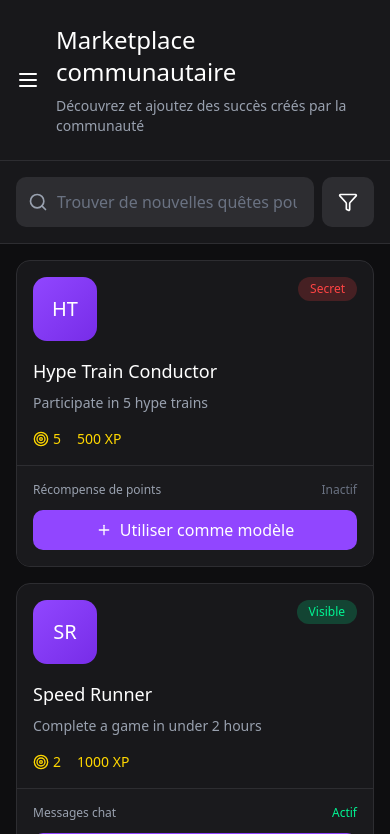
Test case: Marketplace › should filter achievements with search
Expected: the heading "Speed Runner" is shown, left=33, top=682, right=152, bottom=706
Type "Hype" into the field with placeholder "Trouver de nouvelles quêtes pour votre communauté..." at point(165, 202), box left=16, top=177, right=314, bottom=227
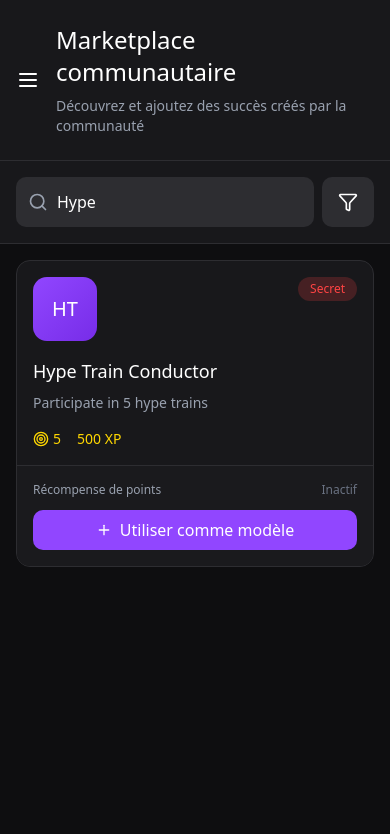
Expected: the heading "Hype Train Conductor" is shown, left=33, top=359, right=217, bottom=383
Result: the heading "Speed Runner" is gone
